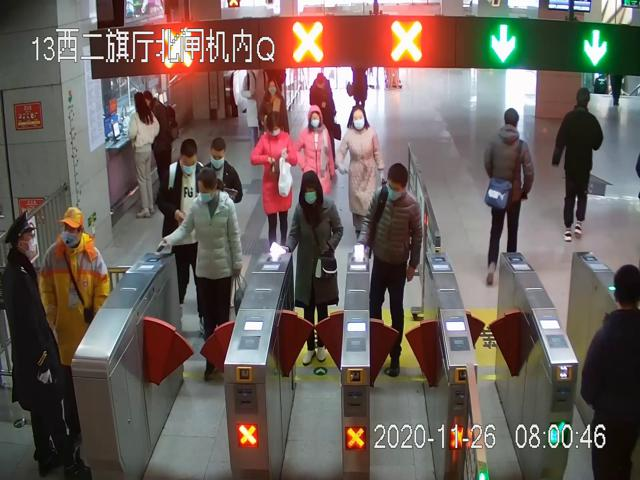person: (0, 214, 78, 477), (162, 165, 244, 377), (363, 164, 422, 378), (285, 168, 344, 366), (42, 204, 107, 374), (164, 136, 211, 333), (555, 80, 605, 245), (485, 109, 532, 282), (336, 103, 384, 247), (250, 115, 297, 252), (126, 88, 160, 221), (196, 134, 247, 218), (292, 106, 339, 196)
